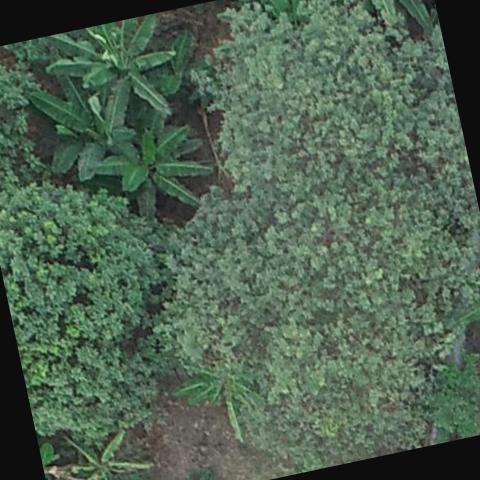Banana-plant: (37, 9, 192, 148), (13, 48, 149, 194), (80, 110, 224, 238), (158, 342, 282, 458), (41, 409, 166, 480), (344, 0, 415, 36)
